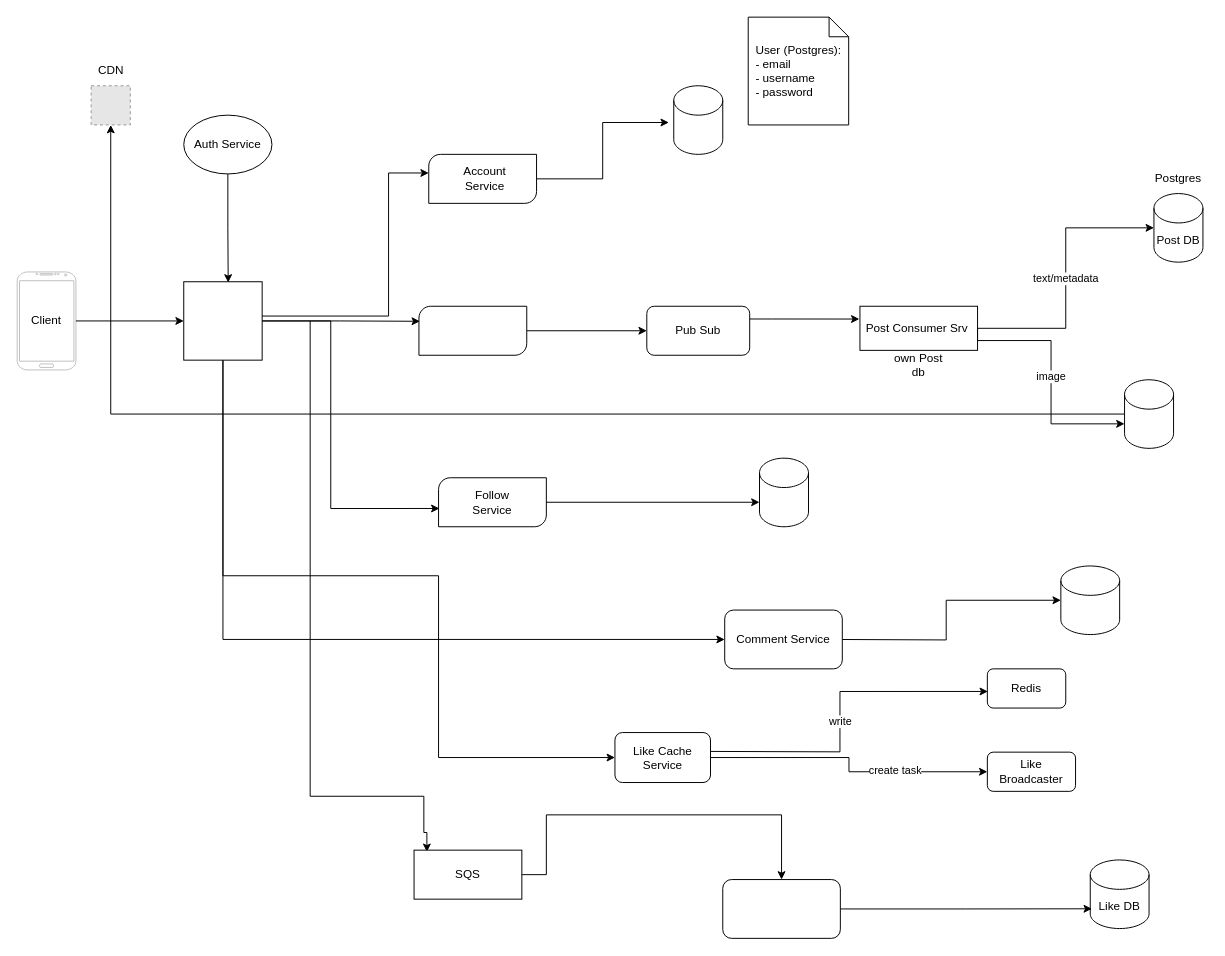
The diagram is 1225 pixels wide and 956 high, and some of its shapes have lost their labels. Grey dashed boxes stand in for pictures. Here are the shapes that lost their labels. From the top down, the centre of each, then its label:
At [698,119]: "User DB".
At [222,320]: "API gate way & LB".
At [472,330]: "Content Service".
At [1149,413]: "S3".
At [783,492]: "Follower DB".
At [1090,600]: "Comment DB".
At [781,908]: "Like Consumer".
